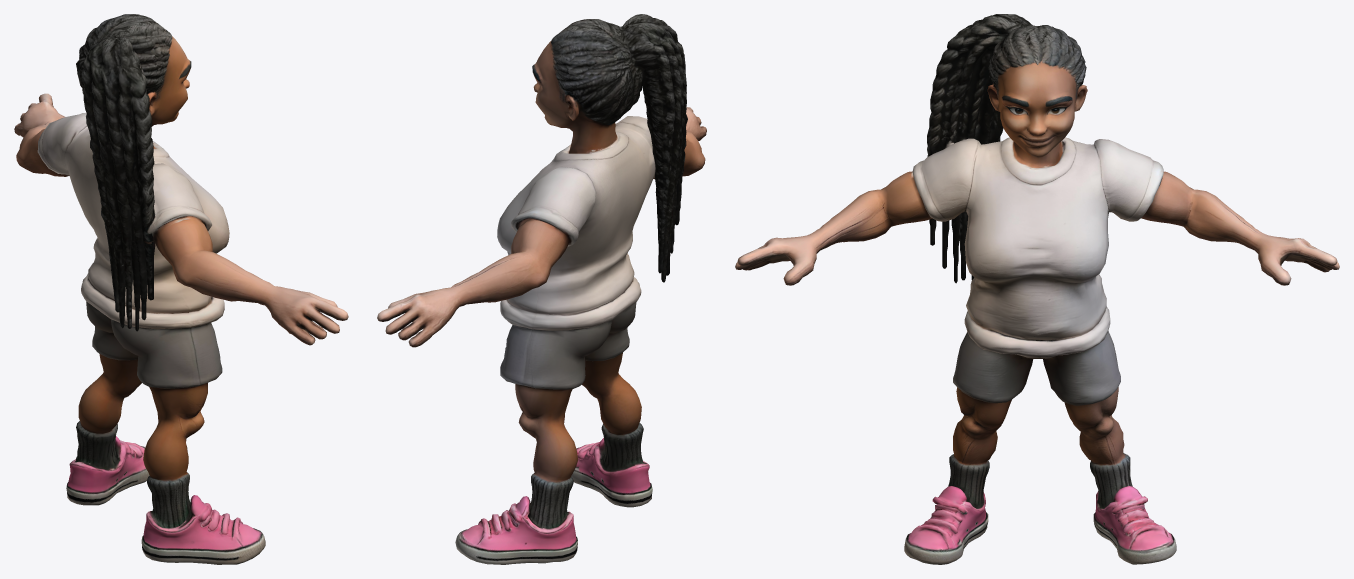
The picture shows the model from 3 angles, left to right: view 1: azimuth 30°, elevation 25°; view 2: azimuth 150°, elevation 25°; view 3: azimuth 270°, elevation 25°; orthographic projection.
Visible parts, largest first — view 1: tripo_node_5bcea18c; view 2: tripo_node_5bcea18c; view 3: tripo_node_5bcea18c.
Boxes of the visible parts, left/top/right/bottom form: tripo_node_5bcea18c: left=14, top=14, right=348, bottom=564; tripo_node_5bcea18c: left=377, top=14, right=706, bottom=564; tripo_node_5bcea18c: left=735, top=14, right=1339, bottom=564.
Size of the model in its own units: 0.2701 by 0.9159 by 1.
1 material, 1 textured.
